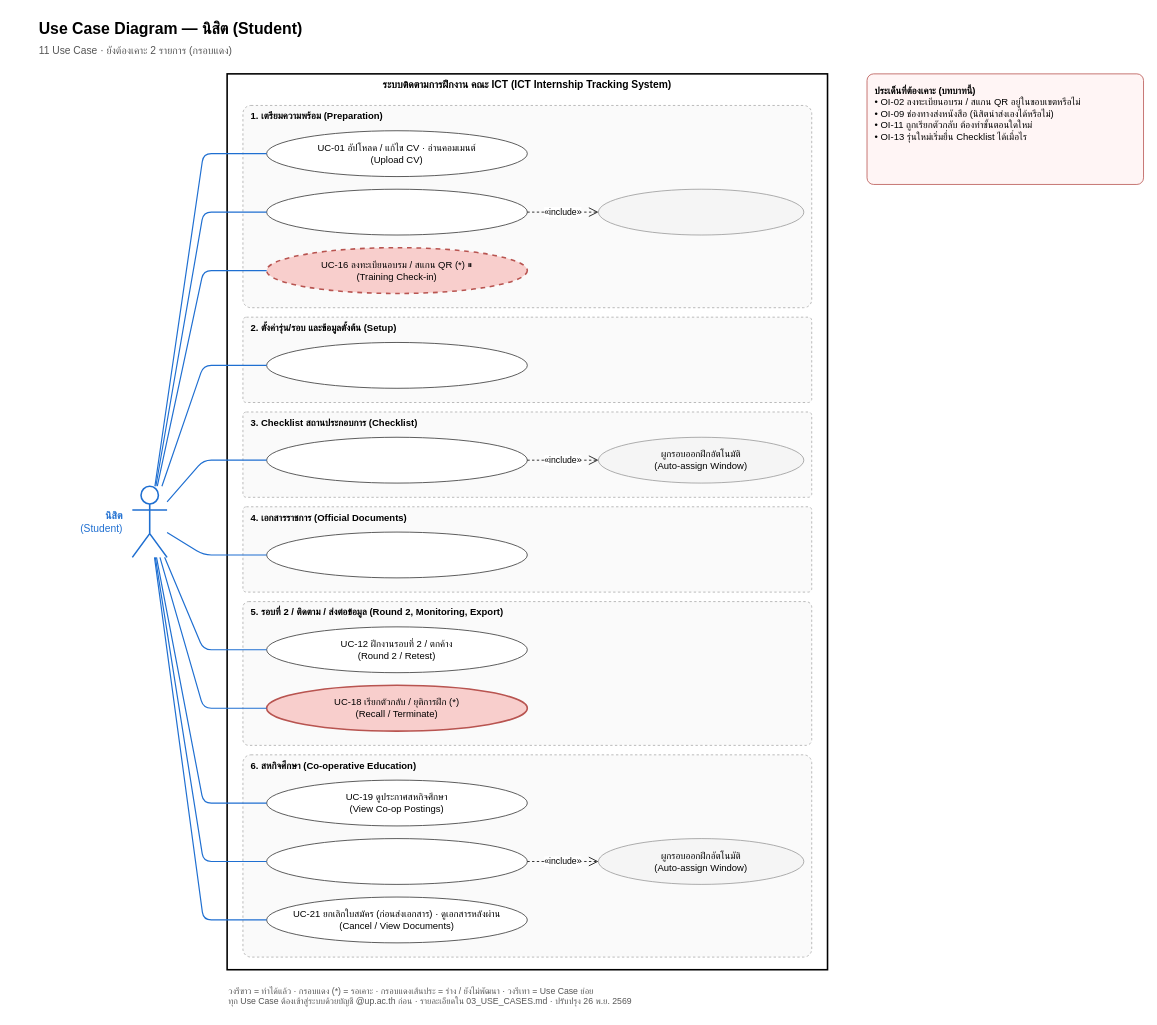
Some shapes in this 1157 by 1025 pixel diagram are drawn without their labels. Each missing label, with the centre of its shape:
UC-03 บันทึกชั่วโมงอบรม (Record Training Hours): [396,211]
UC-06 ยื่น Checklist สถานประกอบการ (Submit Checklist): [396,459]
UC-09 อัปโหลดแบบตอบรับ (Upload Acceptance Form): [396,554]
UC-20 สมัครสหกิจศึกษา / ติดตามผล (Apply for Co-op): [396,861]
UC-23 แก้ไขชื่อ-สกุล / GPAX (เมื่อได้รับสิทธิ์) (Edit Locked Profile): [396,365]
แนบใบรับรอง + หน่วยงานผู้จัด + ลิงก์อ้างอิง (Evidence): [701,211]
